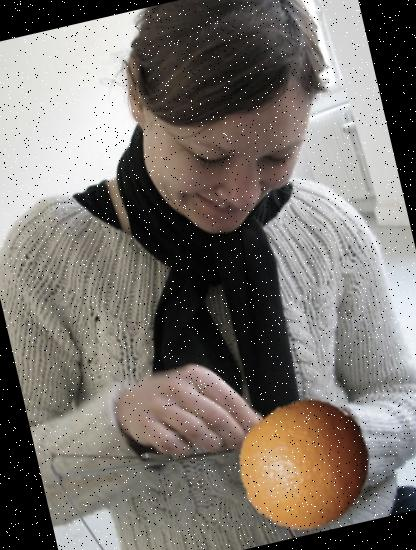Orange: (226, 386, 384, 544)
